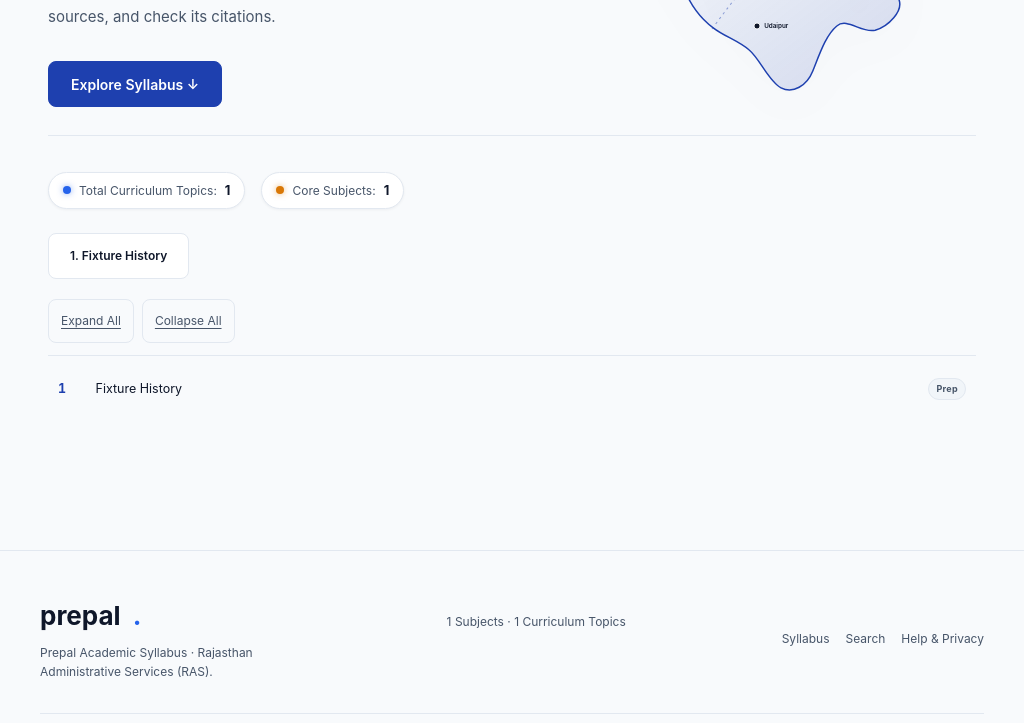
Scenario: published learning flow › navigates from catalog to topic and renders authored HTML
(page scrolled)
Step 1. Click the text "Fixture History" → (139, 388), box 96,381 -> 182,396
(page scrolled)
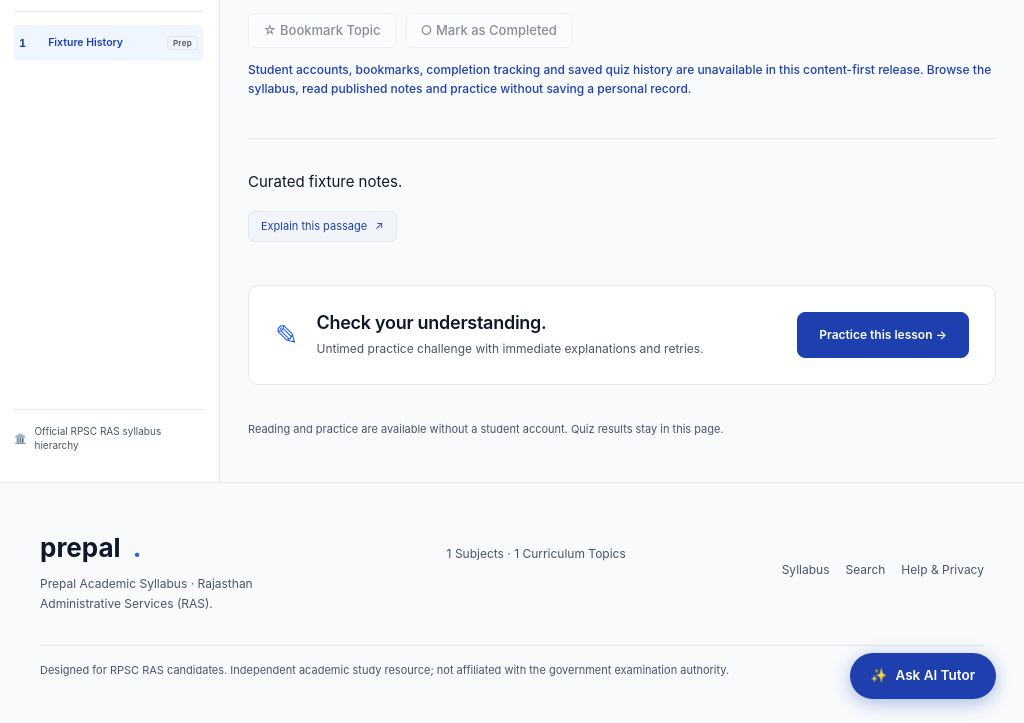
Check: the text "Curated fixture notes." is shown, box 248,172 -> 402,191
Check: the link "Practice this lesson →" is shown, box 797,312 -> 969,358
